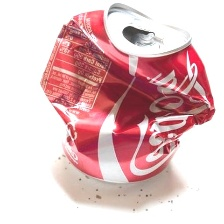can: (28, 2, 217, 190)
